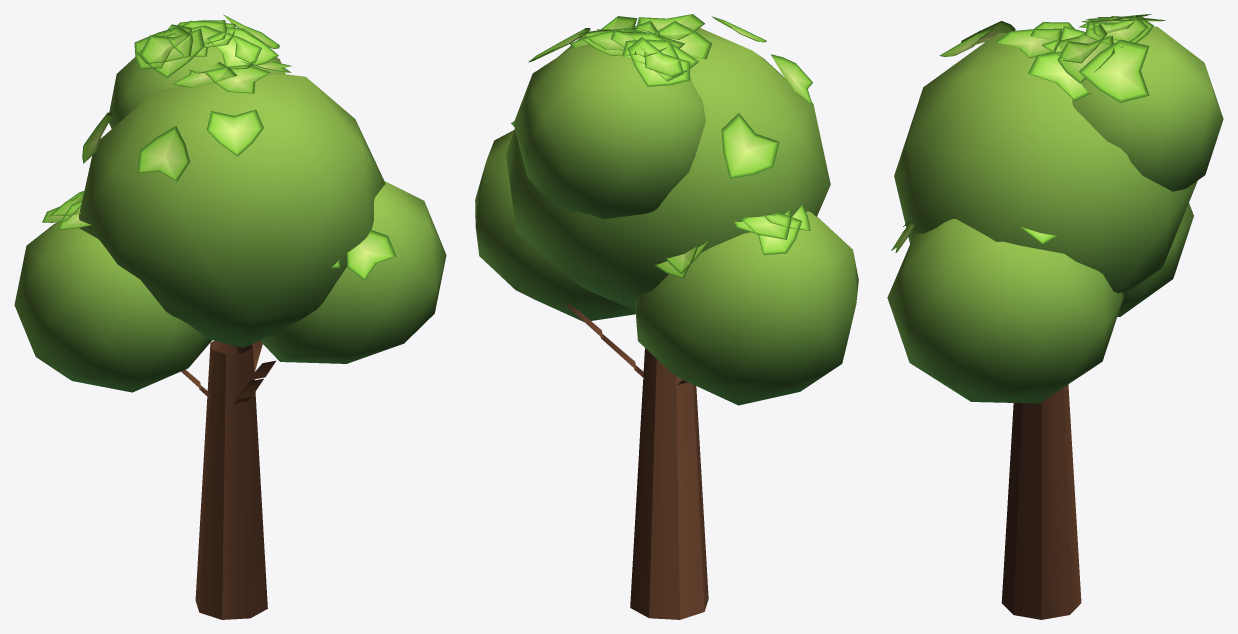
Rendered from cel_tree.glb.
3 renders of one model, left to right at view 1: azimuth 30°, elevation 25°; view 2: azimuth 150°, elevation 25°; view 3: azimuth 270°, elevation 25°, orthographic. The views are drawn at different scales.
Visible parts, largest first — view 1: crown, trunk, leaves; view 2: crown, trunk, leaves; view 3: crown, trunk, leaves.
Boxes of the visible parts, <box> form: crown: <box>14,46,446,392</box>; trunk: <box>181,340,275,619</box>; leaves: <box>42,14,396,280</box>; crown: <box>475,28,858,405</box>; trunk: <box>567,303,708,619</box>; leaves: <box>511,14,812,278</box>; crown: <box>887,26,1223,403</box>; trunk: <box>1001,384,1081,619</box>; leaves: <box>891,14,1165,252</box>.
Bounding box in the file's own units: 3.81 × 5.51 × 2.87.
